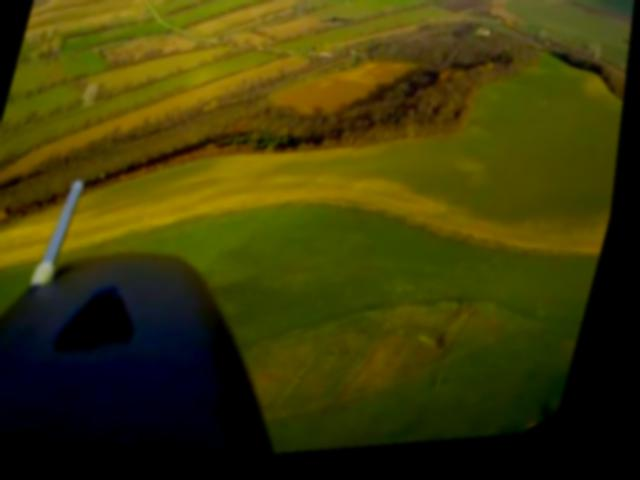iha: (319, 20, 353, 33)
